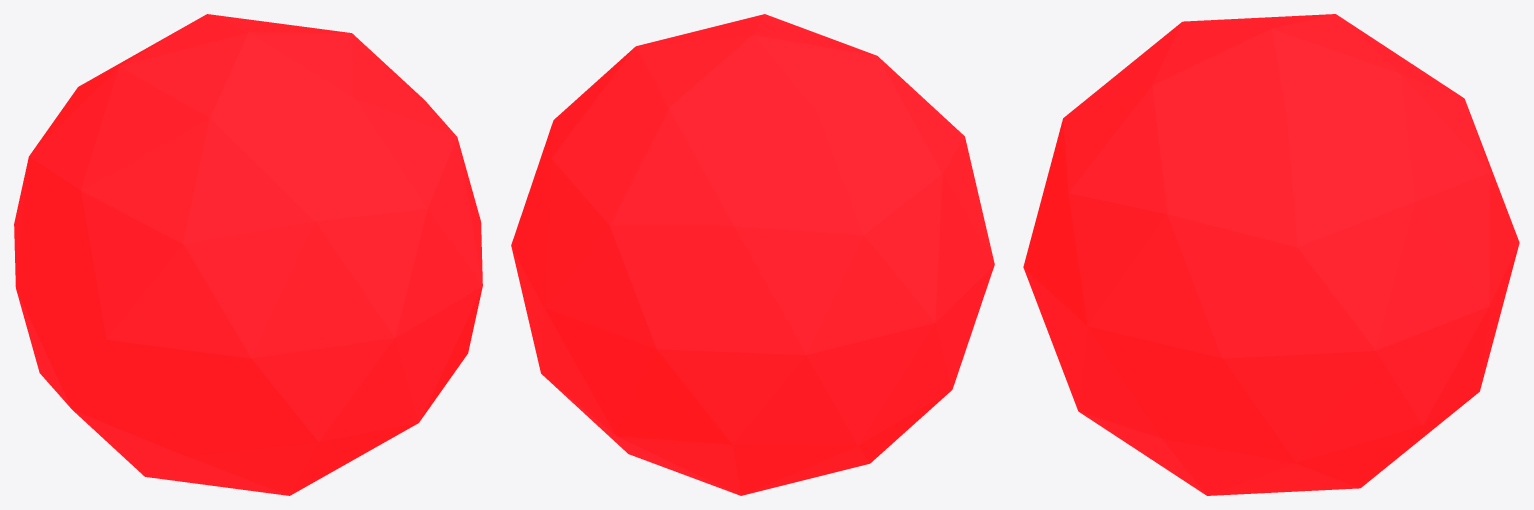
Rendered from ChristmasTree_2021_ball.fbx.
3 renders of one model, left to right at view 1: azimuth 30°, elevation 25°; view 2: azimuth 150°, elevation 25°; view 3: azimuth 270°, elevation 25°, orthographic. The views are drawn at different scales.
Visible parts, largest first — view 1: Icosphere.013; view 2: Icosphere.013; view 3: Icosphere.013.
Part boxes in pixels (x1,y1,x2,y2): Icosphere.013: (14,14,482,495); Icosphere.013: (511,14,994,495); Icosphere.013: (1023,14,1519,495).
Bounding box in the file's own units: 29.03 × 29.6 × 29.4.
